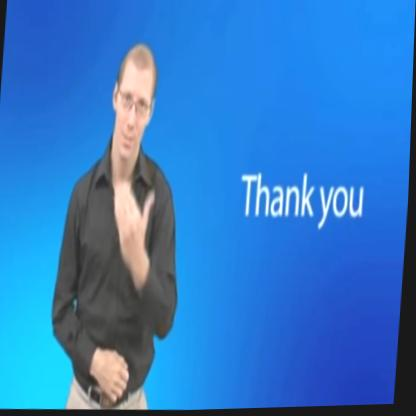ThankYou: (83, 42, 176, 305)
